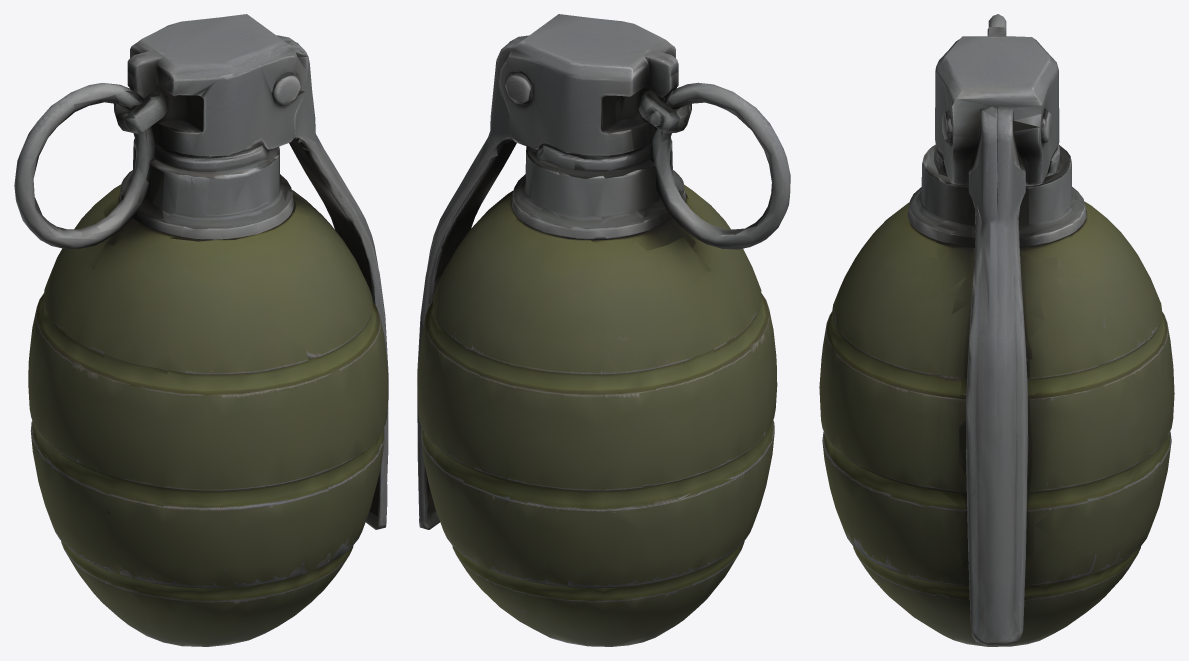
File: Asset_03_LOD1.fbx
The picture shows the model from 3 angles, left to right: view 1: azimuth 30°, elevation 25°; view 2: azimuth 150°, elevation 25°; view 3: azimuth 270°, elevation 25°; orthographic projection. The views are drawn at different scales.
Visible parts, largest first — view 1: Asset_03_LOD1; view 2: Asset_03_LOD1; view 3: Asset_03_LOD1.
Boxes of the visible parts, left/top/right/bottom form: Asset_03_LOD1: left=14, top=14, right=388, bottom=646; Asset_03_LOD1: left=417, top=14, right=790, bottom=646; Asset_03_LOD1: left=819, top=14, right=1174, bottom=646.
Size of the model in its own units: 0.0768 by 0.115 by 0.0664.
1 material, 1 textured.
